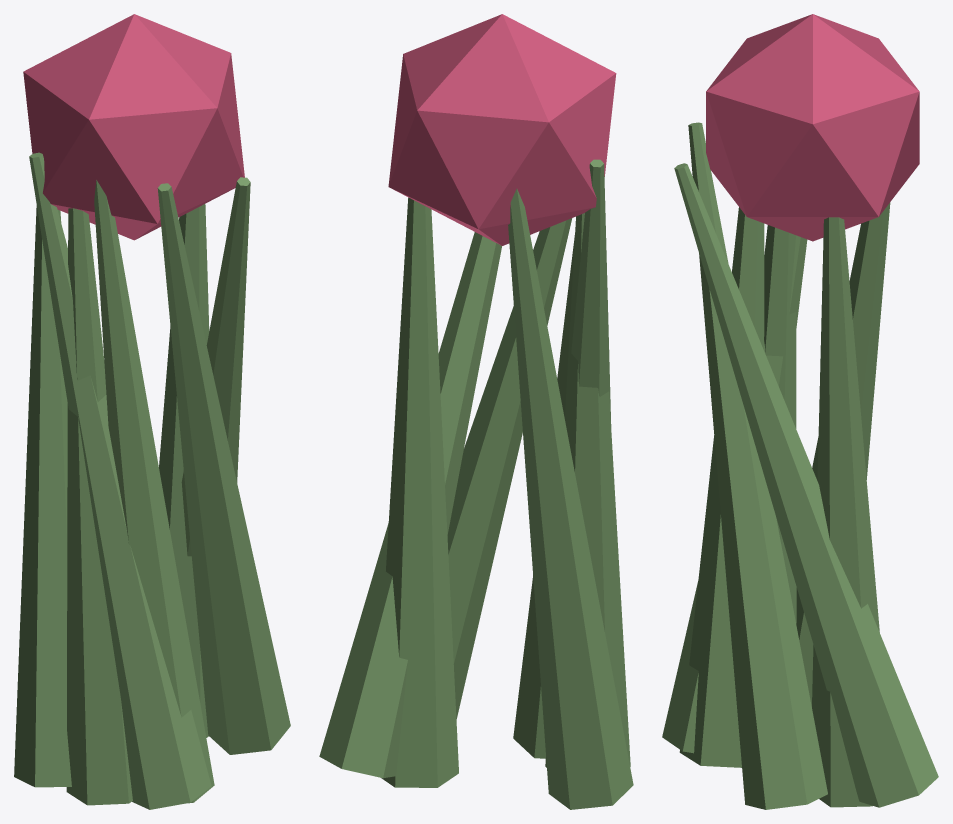
Rendered from HerbPlant.fbx.
3 views of the same model, side by side, from view 1: azimuth 30°, elevation 25°; view 2: azimuth 150°, elevation 25°; view 3: azimuth 270°, elevation 25° (orthographic). The views are drawn at different scales.
Parts seen in each view (by area): view 1: HerbPlant; view 2: HerbPlant; view 3: HerbPlant.
Part boxes in pixels (x1=…): HerbPlant: x1=14, y1=14, x2=290, y2=809; HerbPlant: x1=319, y1=14, x2=633, y2=809; HerbPlant: x1=662, y1=14, x2=938, y2=809.
Size of the model in its own units: 20.56 by 59.18 by 19.85.
